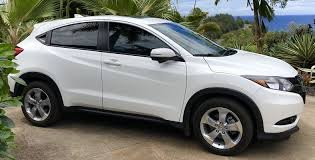mobil: (9, 12, 308, 151)
